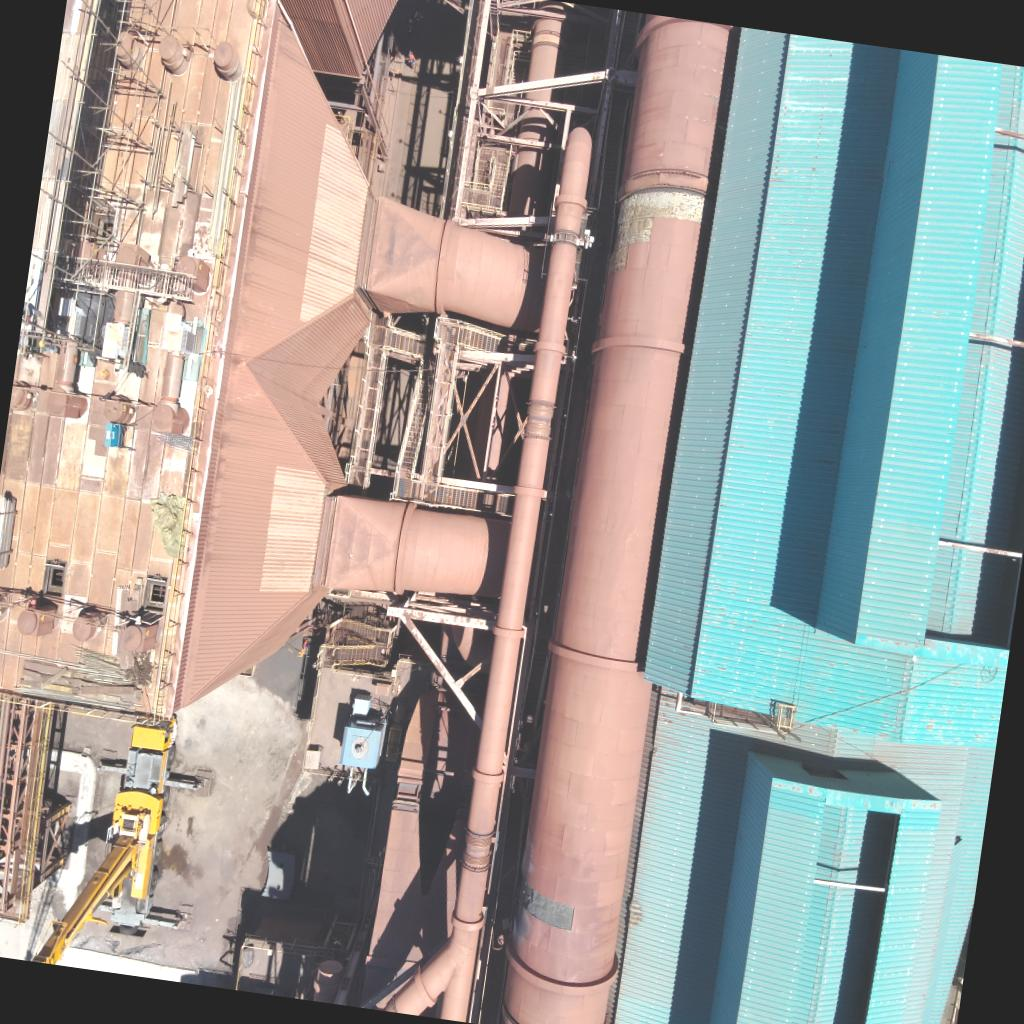Failures: (604, 178, 713, 282), (507, 866, 580, 934)
